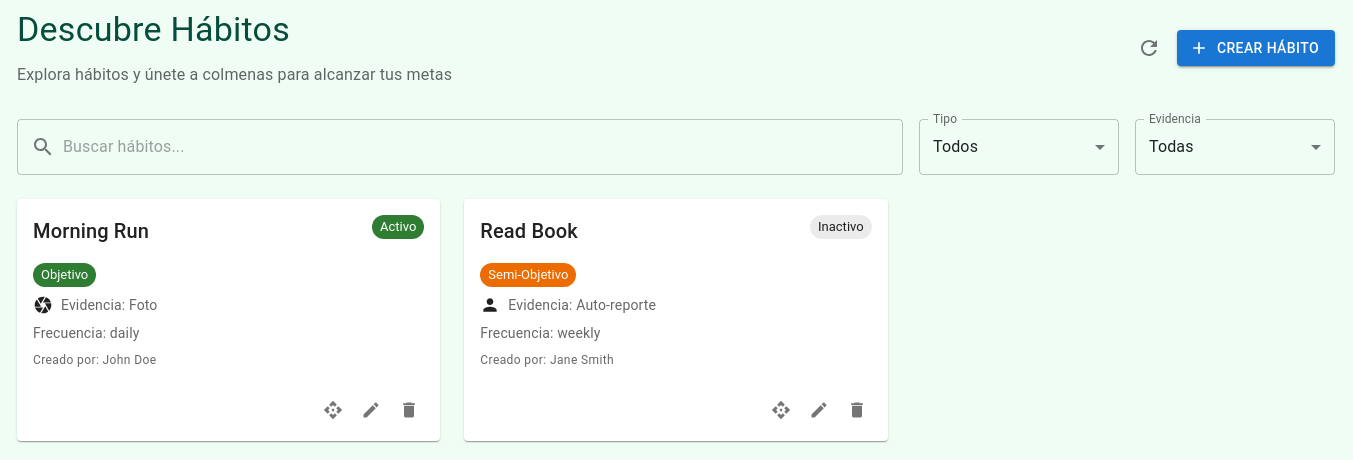
Test: HabitsPage › Data fetching › should show no habits message when filtered list is empty
Expected: the heading "Morning Run" is shown, [33,219,149,243]
Type "Nonexistent" into the field with placeholder "Buscar hábitos..." at (483, 147), box [63,119,903,175]
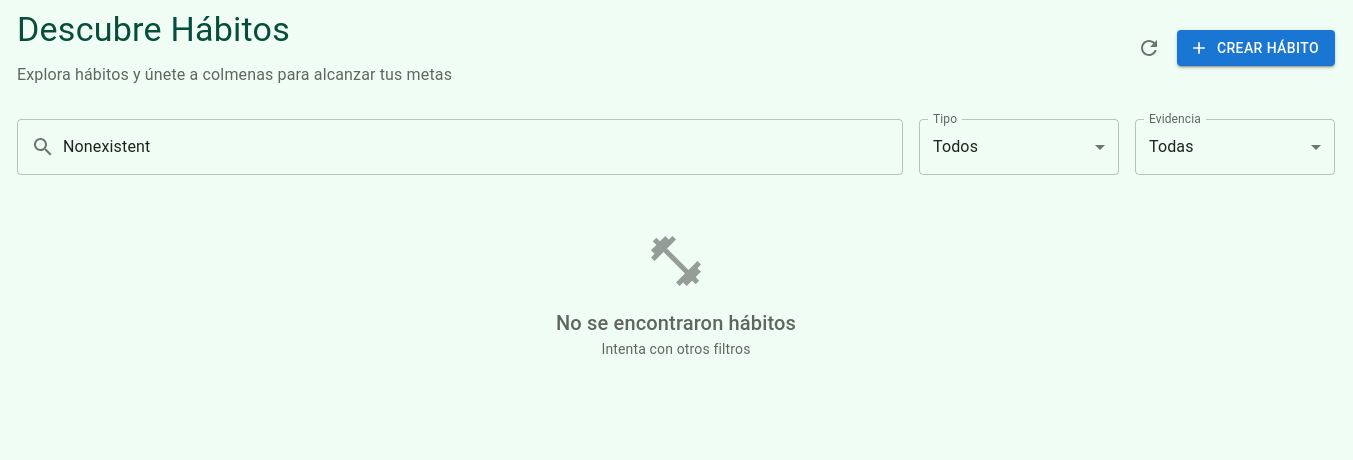
Expected: the heading "No se encontraron hábitos" is shown, [556,311,796,335]
